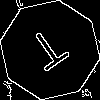T: (25, 25, 76, 80)
